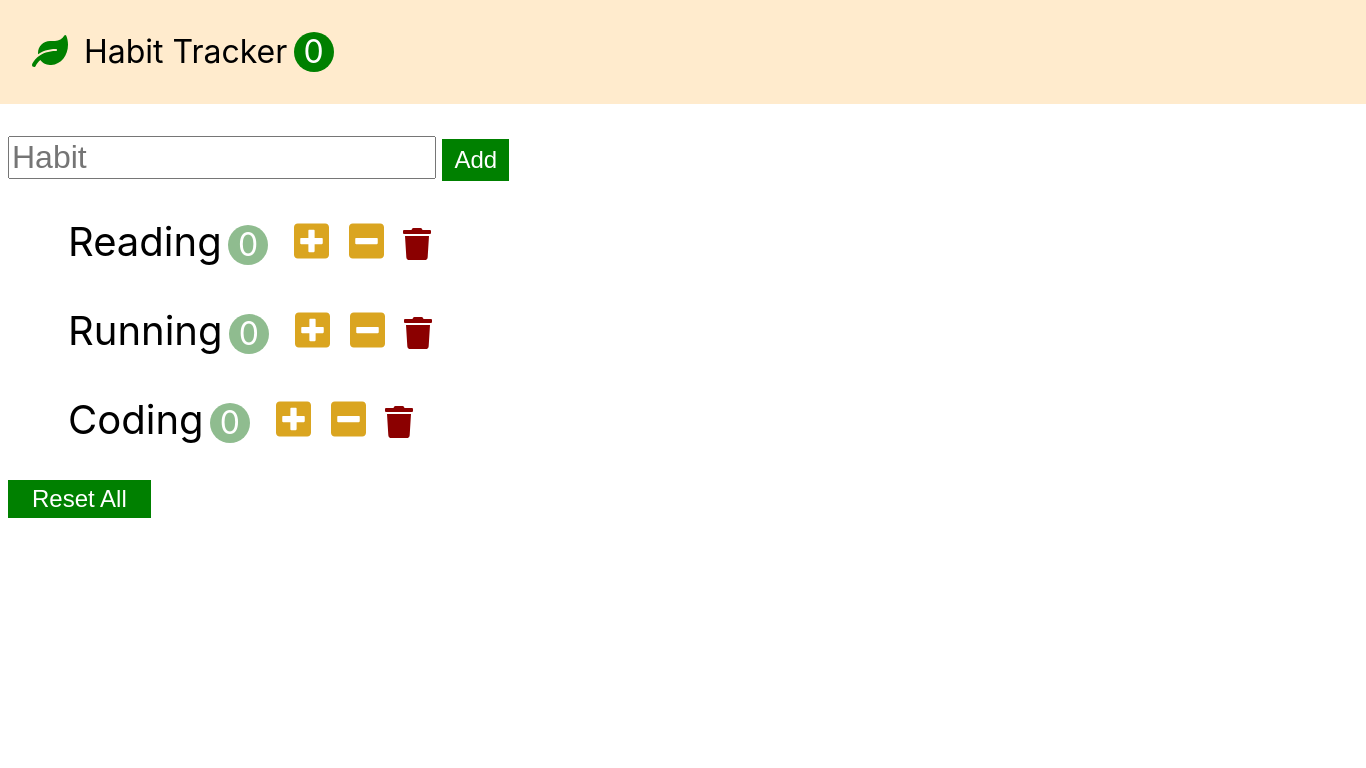
Test: Habit tracker › reset to 0 when clicking reset all
Type "new habit" into the field with placeholder "Habit" at (222, 158), box x1=8 y1=136 x2=436 y2=179
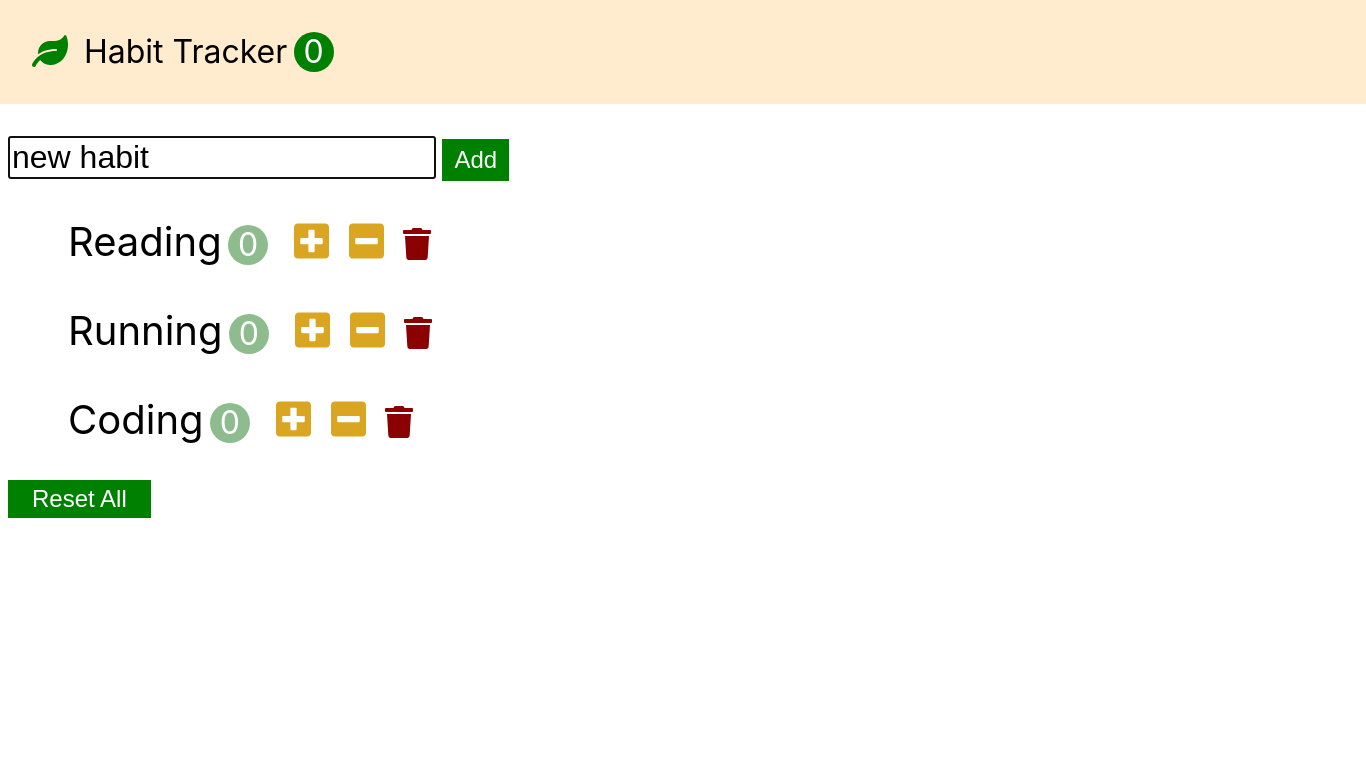
Click the button "Add" at (476, 160), box x1=442 y1=139 x2=509 y2=181
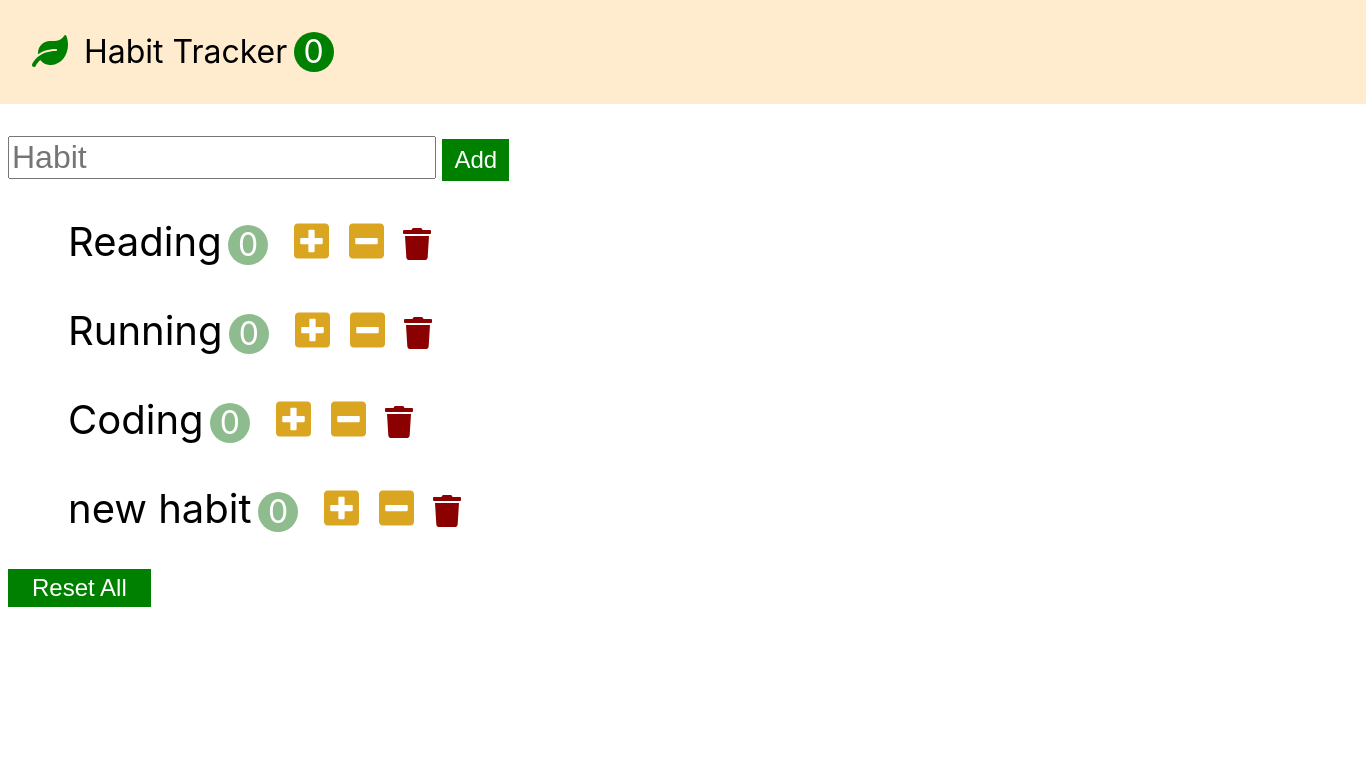
Click the button named "increase" in the row of "Reading" at (312, 243), box x1=288 y1=219 x2=335 y2=266
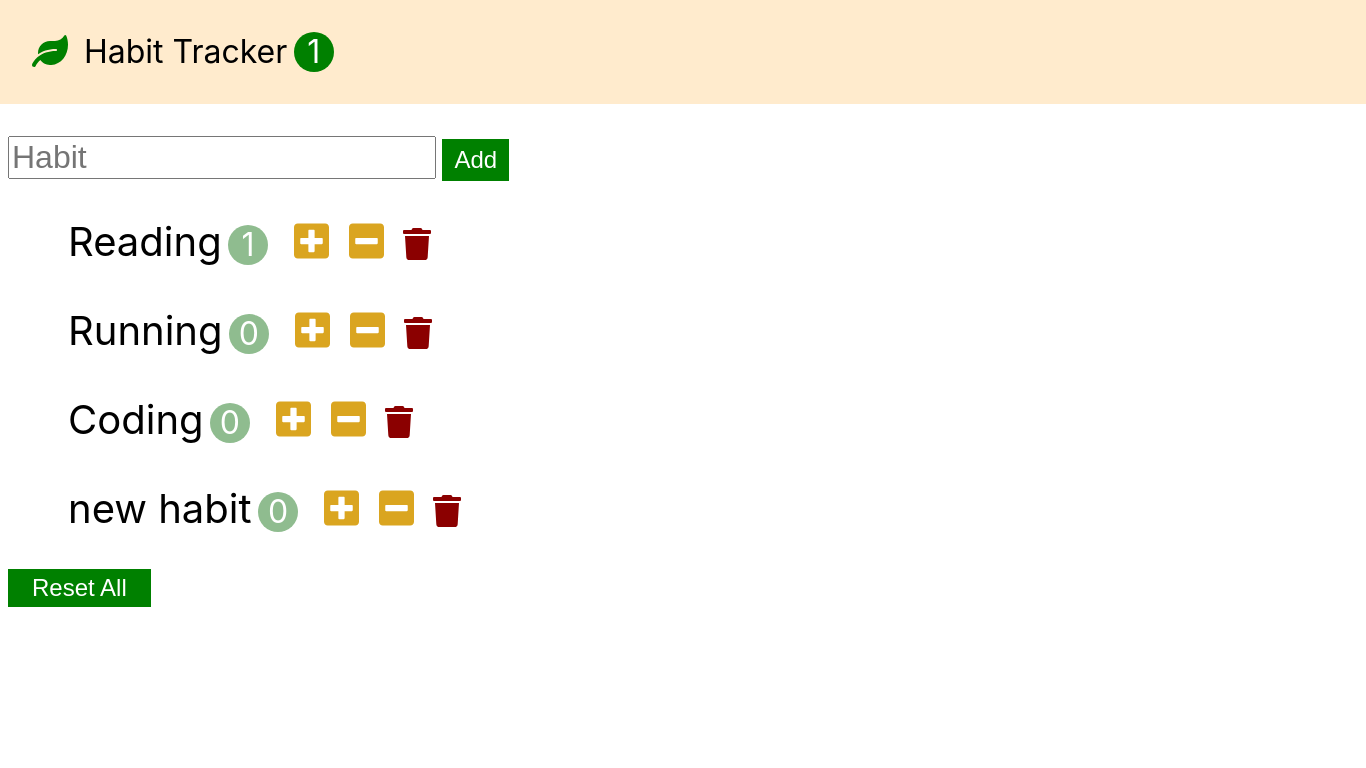
Click the button named "increase" in the row of "new habit" at (342, 510), box x1=318 y1=486 x2=365 y2=533
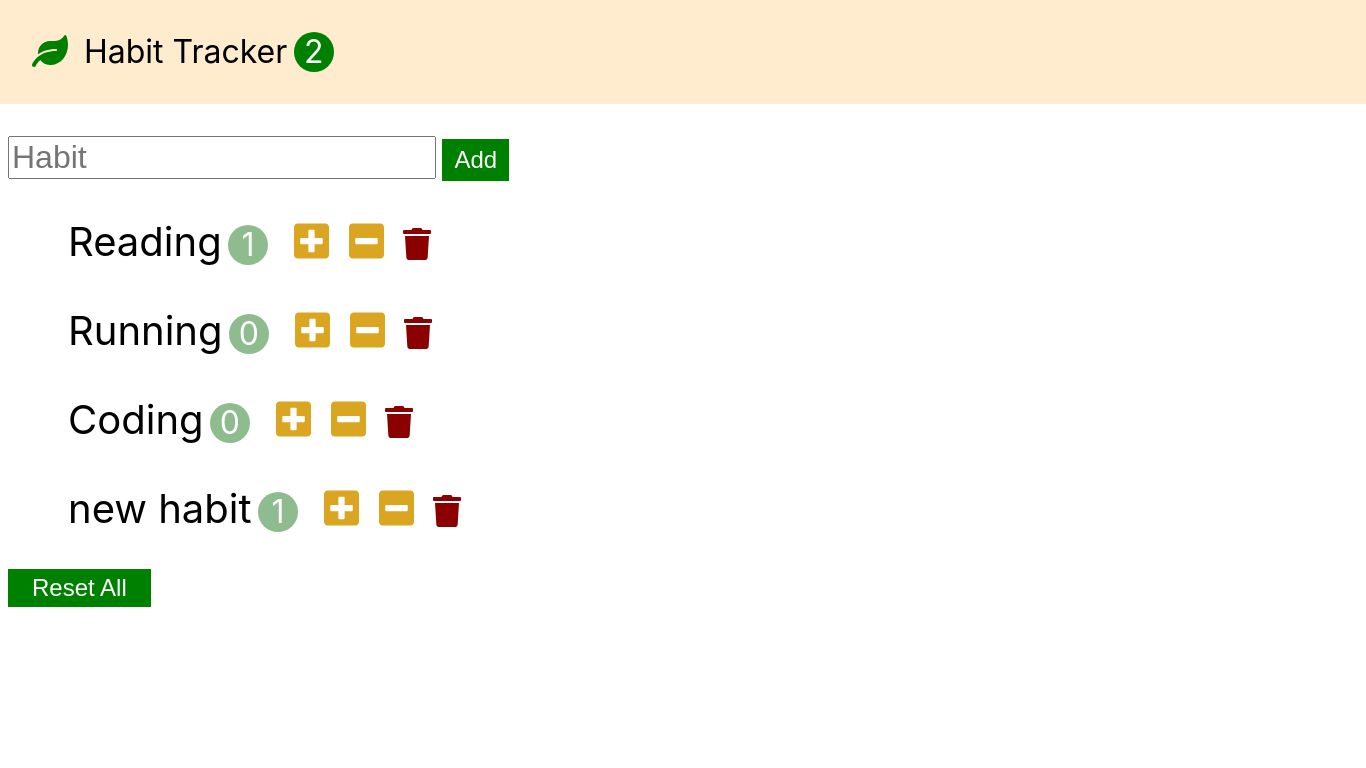
Click the button "Reset All" at (80, 588), box x1=8 y1=569 x2=151 y2=607
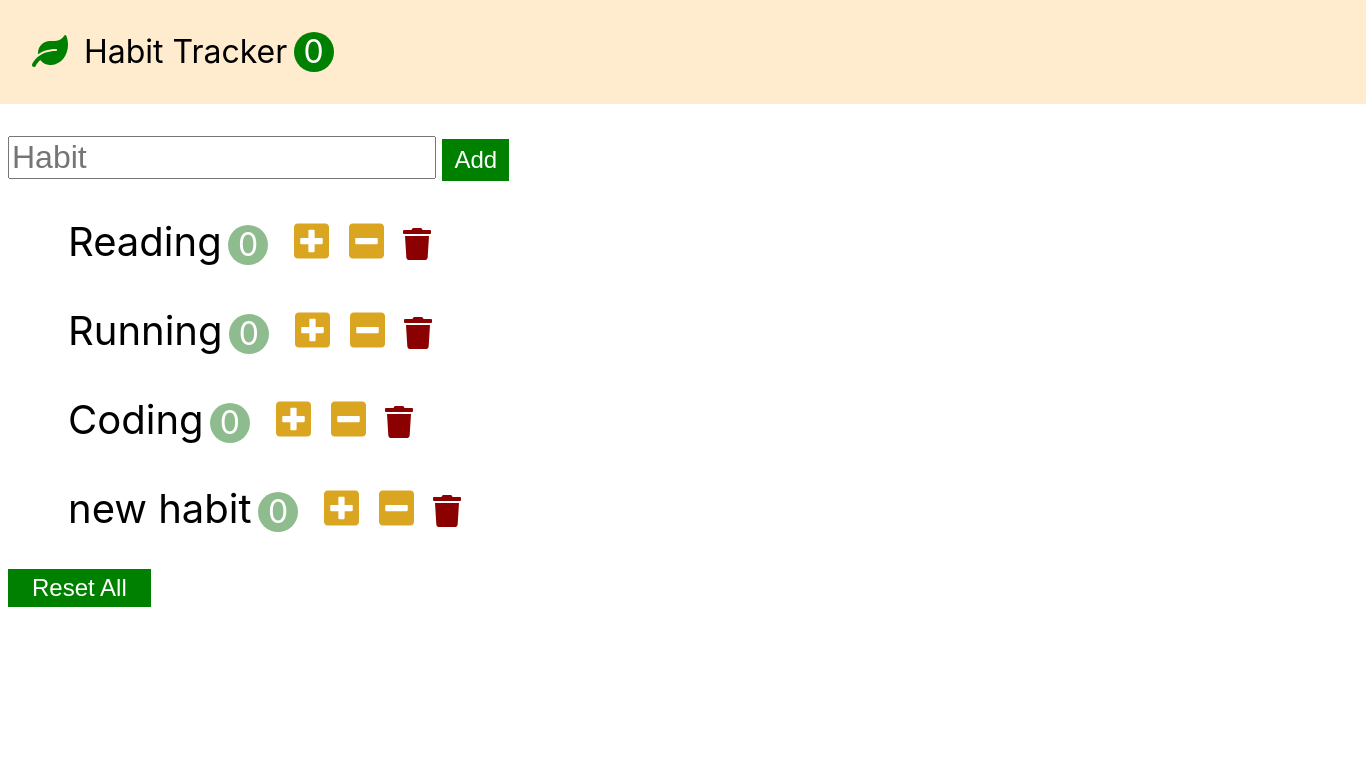
Expected: the text with test id "count" next to "Running" reads "0", x1=229 y1=314 x2=269 y2=354
Expected: the text with test id "count" next to "Reading" reads "0", x1=228 y1=225 x2=268 y2=265
Expected: the text with test id "count" next to "new habit" reads "0", x1=258 y1=492 x2=298 y2=532
